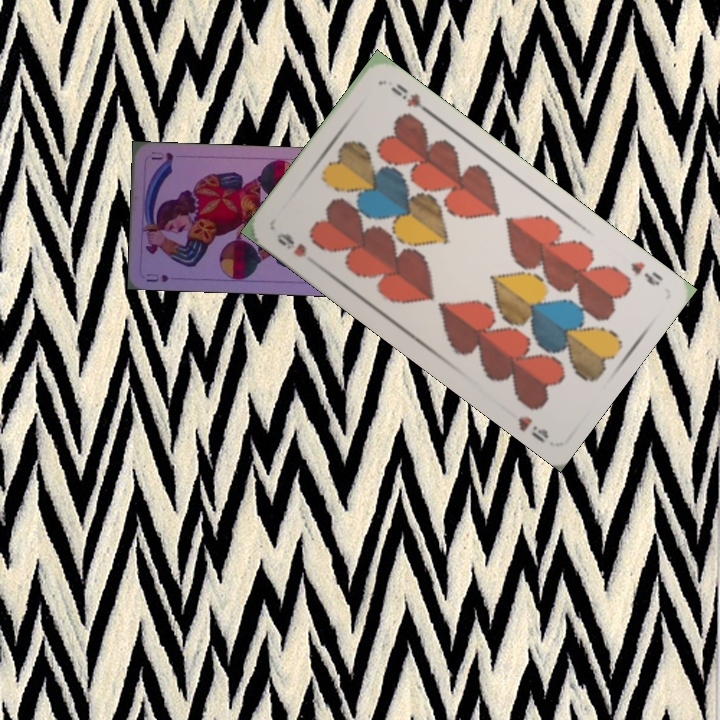H9: (627, 257, 666, 289), (272, 228, 309, 260)
SU: (142, 269, 171, 285)
